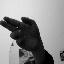h: (1, 13, 44, 54)
